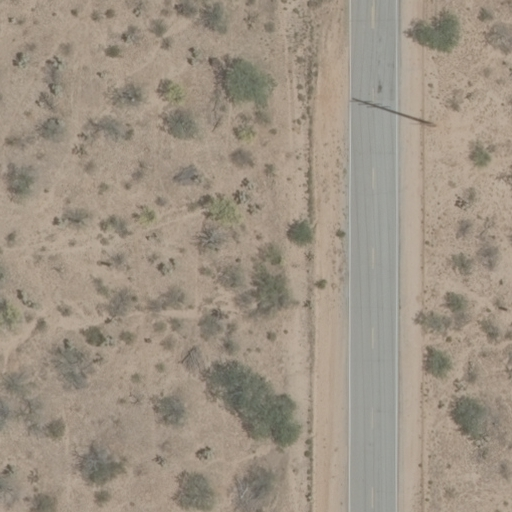DT: (410, 113, 440, 129)
